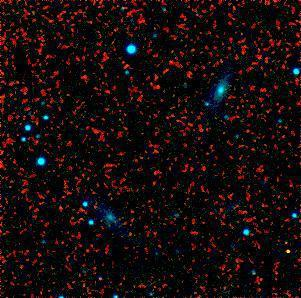star: (272, 236, 301, 266)
